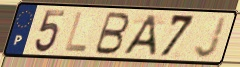5: (33, 9, 68, 53)
7: (157, 13, 197, 58)
A: (120, 13, 158, 57)
B: (92, 10, 132, 56)
J: (193, 15, 229, 60)
L: (62, 10, 89, 54)
